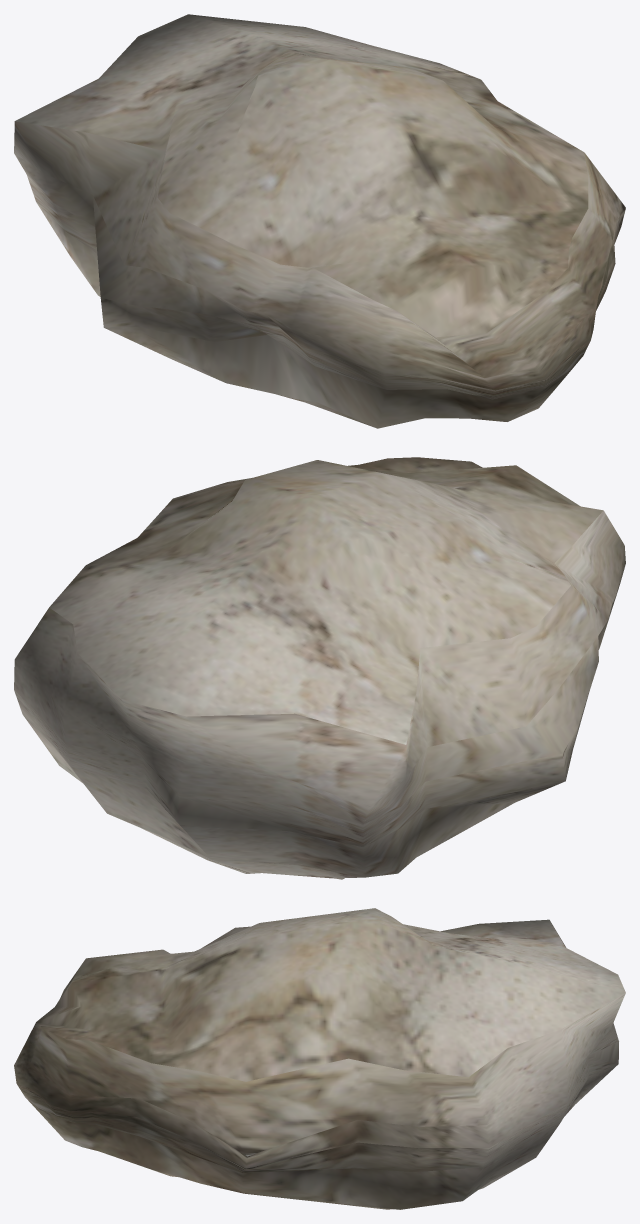
The picture shows the model from 3 angles, top to bottom: view 1: azimuth 30°, elevation 25°; view 2: azimuth 150°, elevation 25°; view 3: azimuth 270°, elevation 25°; orthographic projection. The views are drawn at different scales.
Parts seen in each view (by area): view 1: Object_4; view 2: Object_4; view 3: Object_4.
Boxes of the visible parts, left/top/right/bottom form: Object_4: left=14, top=14, right=625, bottom=428; Object_4: left=14, top=457, right=625, bottom=879; Object_4: left=14, top=908, right=625, bottom=1209.
Size of the model in its own units: 0.4429 by 0.3008 by 0.5895.
Materials: 1 (1 with a texture image).
